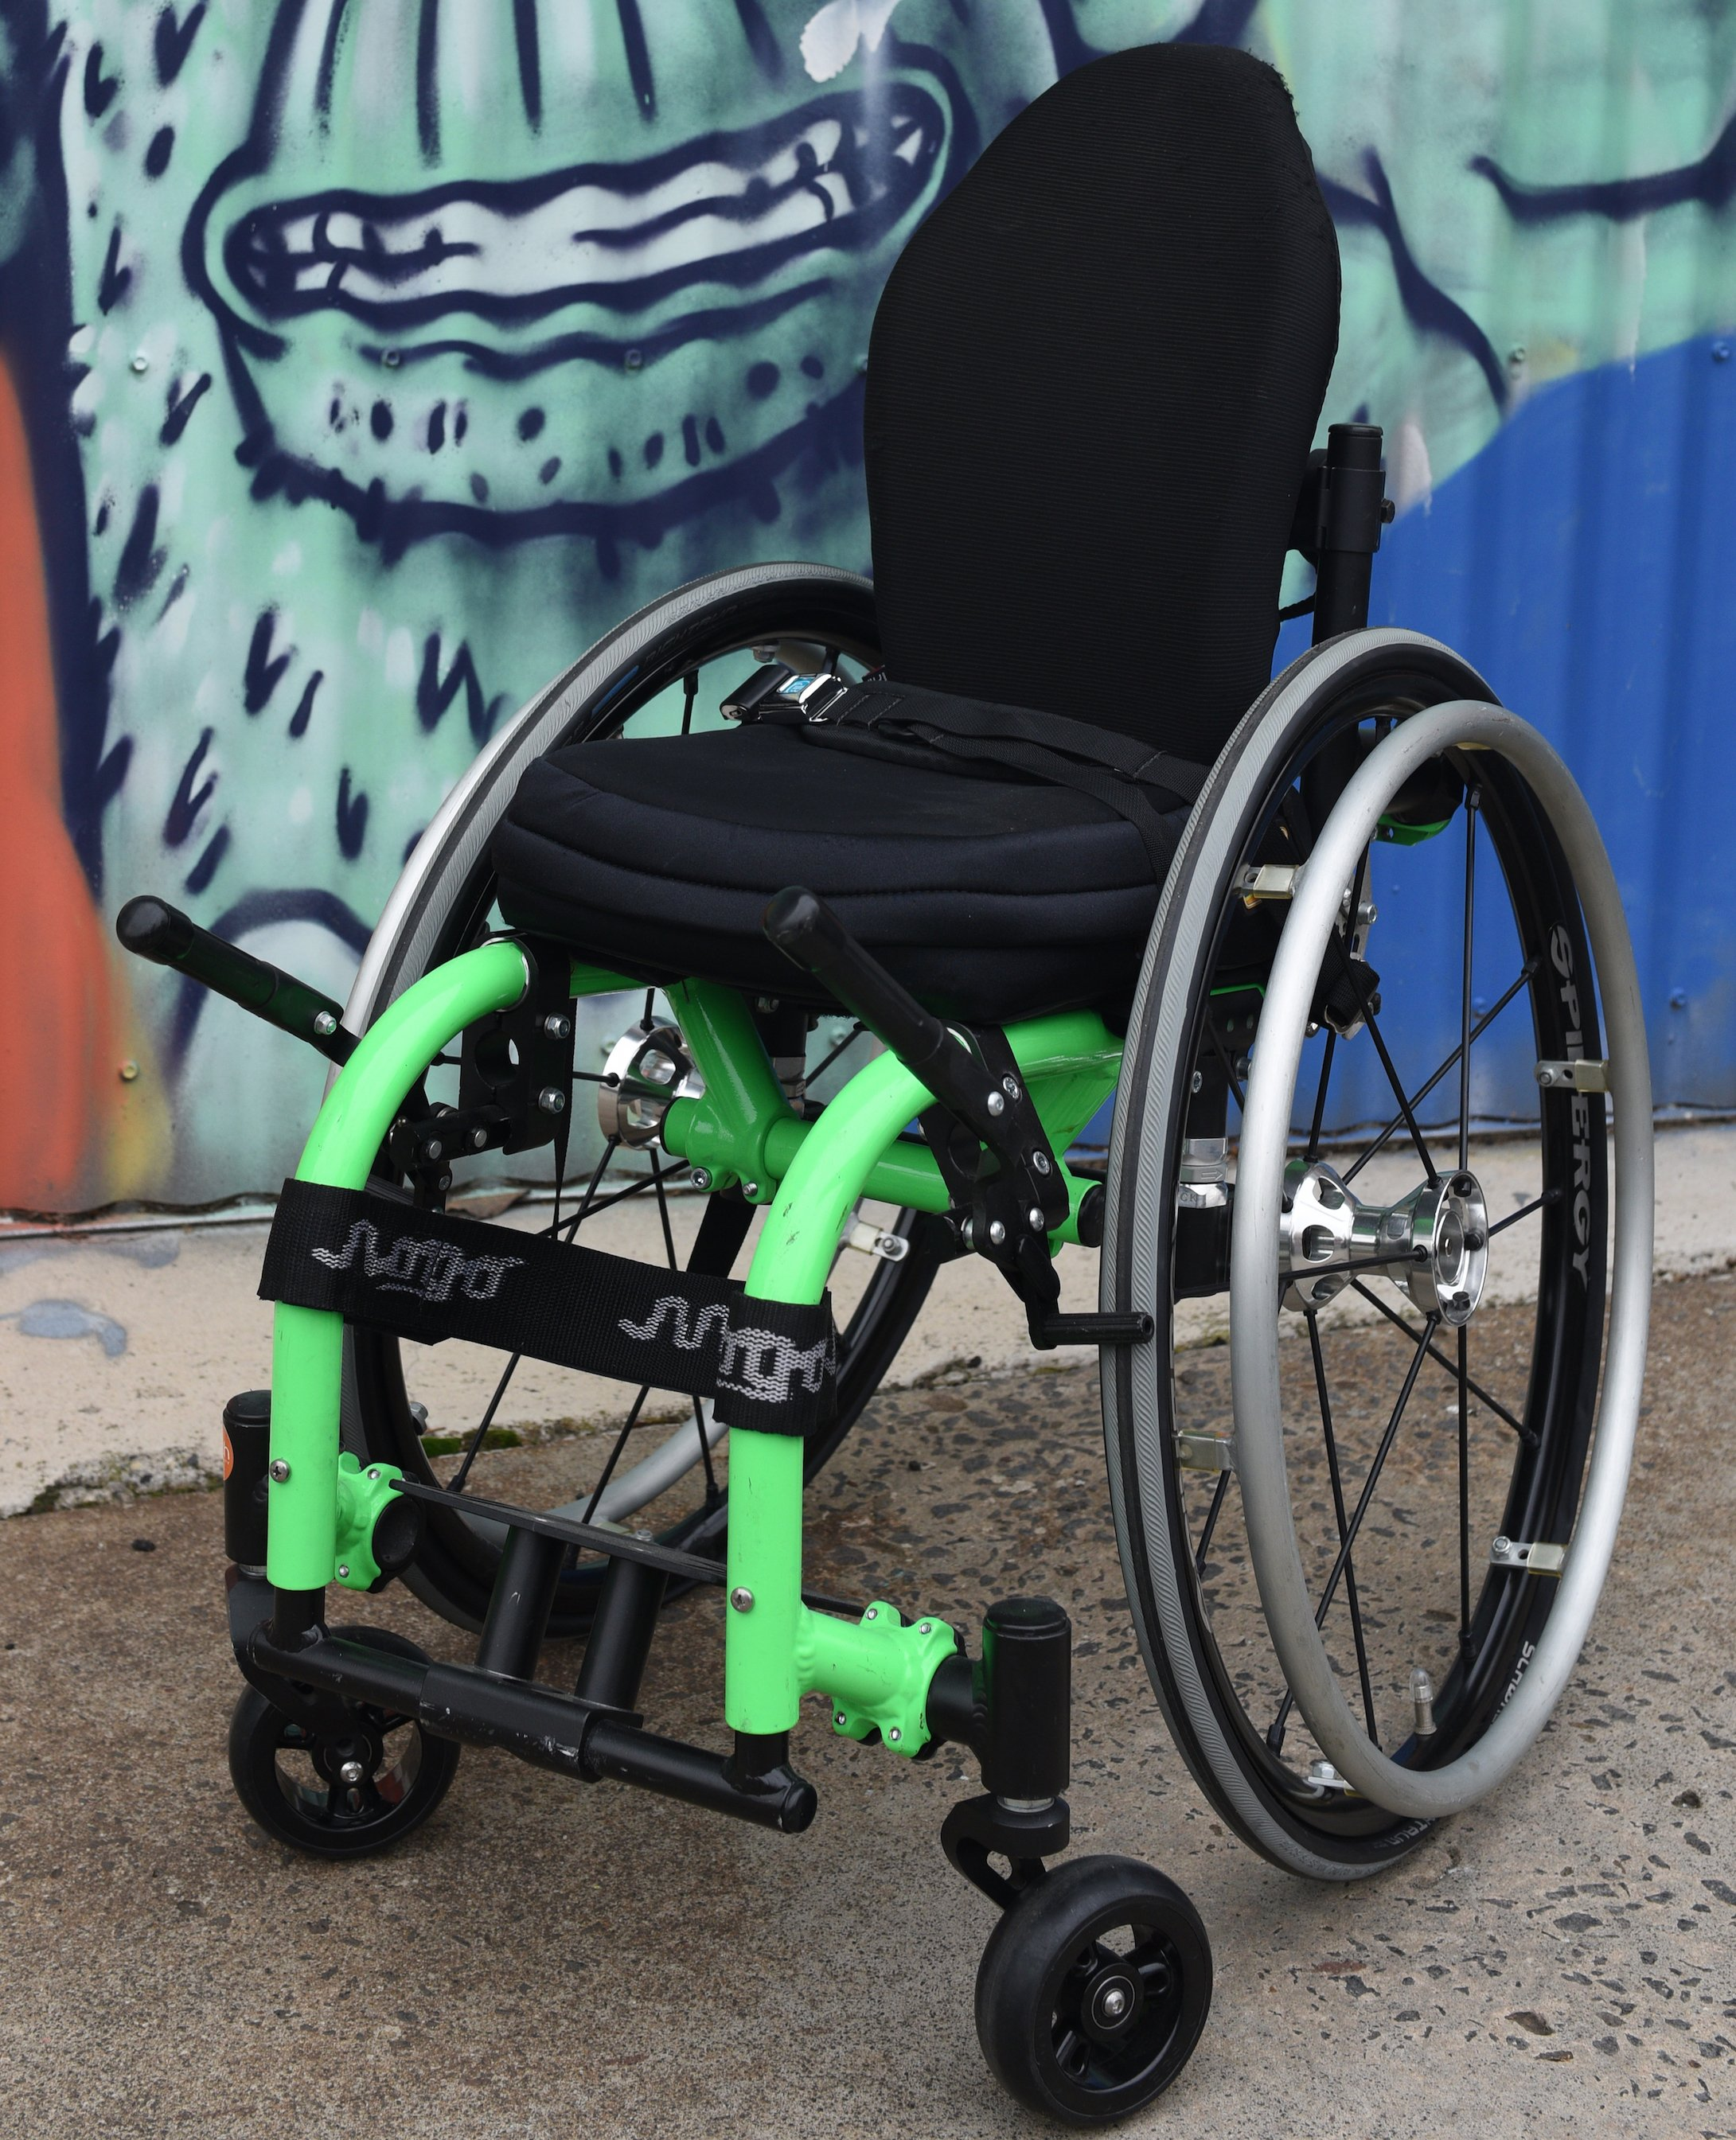wheelchair: (94, 0, 1653, 2028)
